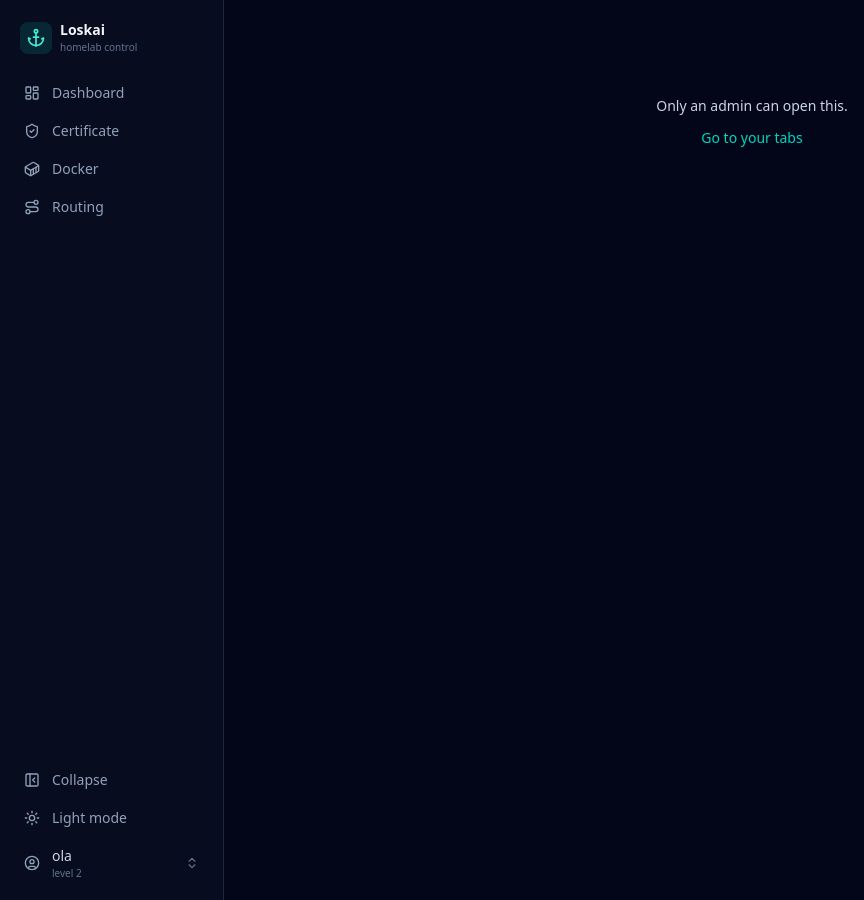
Test: a level 2 account's sidebar has Routing and Docker, and Settings says it's an admin's
Expected: the text "Only an admin can open this." is shown, [656,96,848,115]
Expected: the link "Routing" is shown, [24,197,104,216]
What coordinates should you click on to do the following:
click the button titled "Your account"
I would click on:
 (112, 863)
Its box is [12,838,211,888].
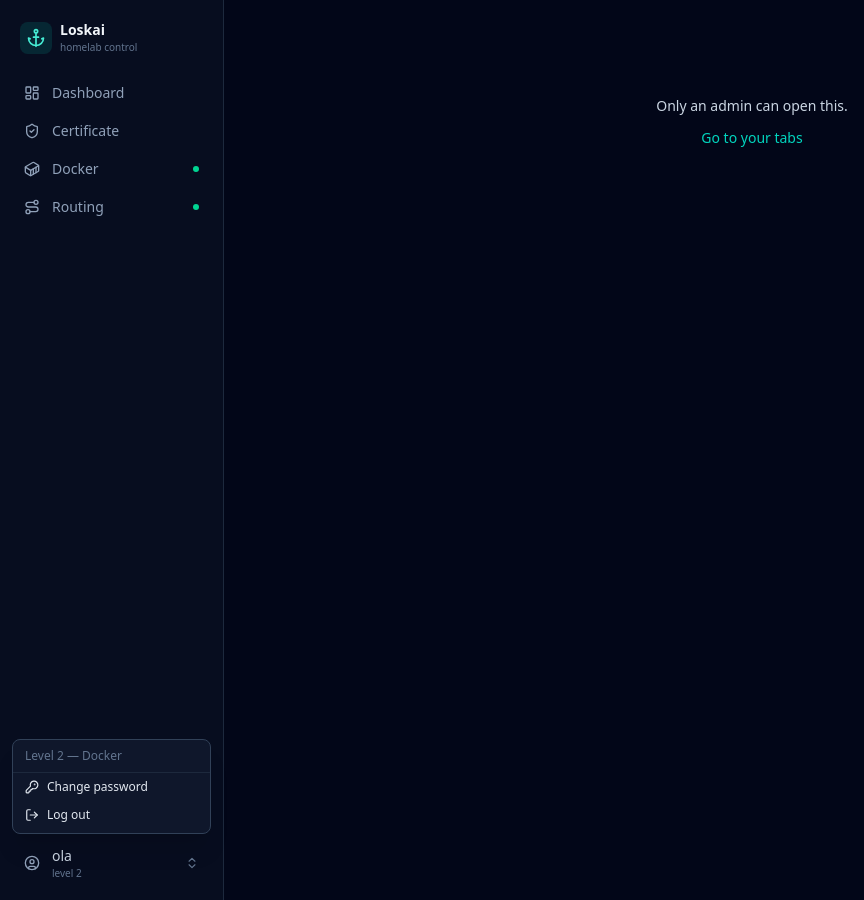
Result: the text "Level 2 — Docker" is shown at [13,744,210,773]
